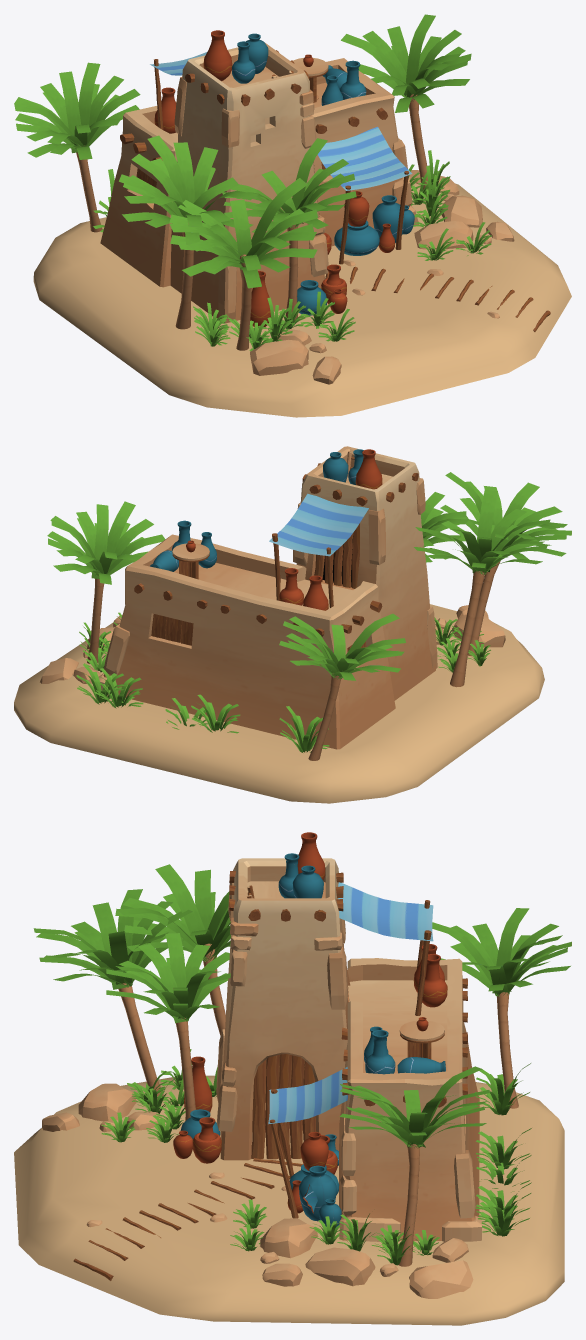
The model's file is egypt.fbx.
3 renders of one model, top to bottom at view 1: azimuth 30°, elevation 25°; view 2: azimuth 150°, elevation 25°; view 3: azimuth 270°, elevation 25°, orthographic. The views are drawn at different scales.
Visible parts, largest first — view 1: pCube1, pCube6, pCube2, pPlane50, pPlane48, pPlane49, pPlane47, pPlane46, pPlane3, pCube21, pCube25, pCylinder32 (+21 smaller); view 2: pCube1, pCube2, pCube6, pPlane47, pPlane48, pPlane49, pPlane50, pPlane1, pPlane46, pCylinder91, pCube36, pPlane88 (+14 smaller); view 3: pCube1, pCube2, pCube6, pPlane50, pPlane49, pPlane46, pPlane48, pPlane47, pCylinder83, pPlane3, pPlane1, pCube26 (+26 smaller).
Part boxes in pixels (<box>): pCube1: <box>33,181,571,417</box>; pCube6: <box>170,43,324,323</box>; pCube2: <box>100,58,418,287</box>; pPlane50: <box>169,178,318,350</box>; pPlane48: <box>119,135,258,329</box>; pPlane49: <box>14,62,140,232</box>; pPlane47: <box>341,14,471,196</box>; pPlane46: <box>222,138,356,320</box>; pPlane3: <box>317,126,412,264</box>; pCube21: <box>250,339,308,375</box>; pCube25: <box>414,221,473,249</box>; pCylinder32: <box>334,220,379,255</box>; pCube1: <box>14,604,544,803</box>; pCube2: <box>103,534,395,749</box>; pCube6: <box>296,446,435,700</box>; pPlane47: <box>47,501,165,663</box>; pPlane48: <box>414,490,550,687</box>; pPlane49: <box>279,613,405,760</box>; pPlane50: <box>440,472,571,656</box>; pPlane1: <box>269,493,368,556</box>; pPlane46: <box>421,492,468,562</box>; pCylinder91: <box>151,614,193,645</box>; pCube36: <box>368,508,385,564</box>; pPlane88: <box>279,706,329,752</box>; pCube1: <box>14,1075,564,1325</box>; pCube2: <box>339,958,479,1240</box>; pCube6: <box>220,858,350,1160</box>; pPlane50: <box>33,889,192,1100</box>; pPlane49: <box>432,908,571,1108</box>; pPlane46: <box>106,933,230,1120</box>; pPlane48: <box>115,864,230,1035</box>; pPlane47: <box>339,1066,489,1266</box>; pCylinder83: <box>251,1054,316,1159</box>; pPlane3: <box>268,1067,347,1218</box>; pPlane1: <box>338,882,433,941</box>; pCube26: <box>305,1247,375,1286</box>.
Bounding box in the file's own units: 844 × 515 × 812.
2 materials, 1 textured.
